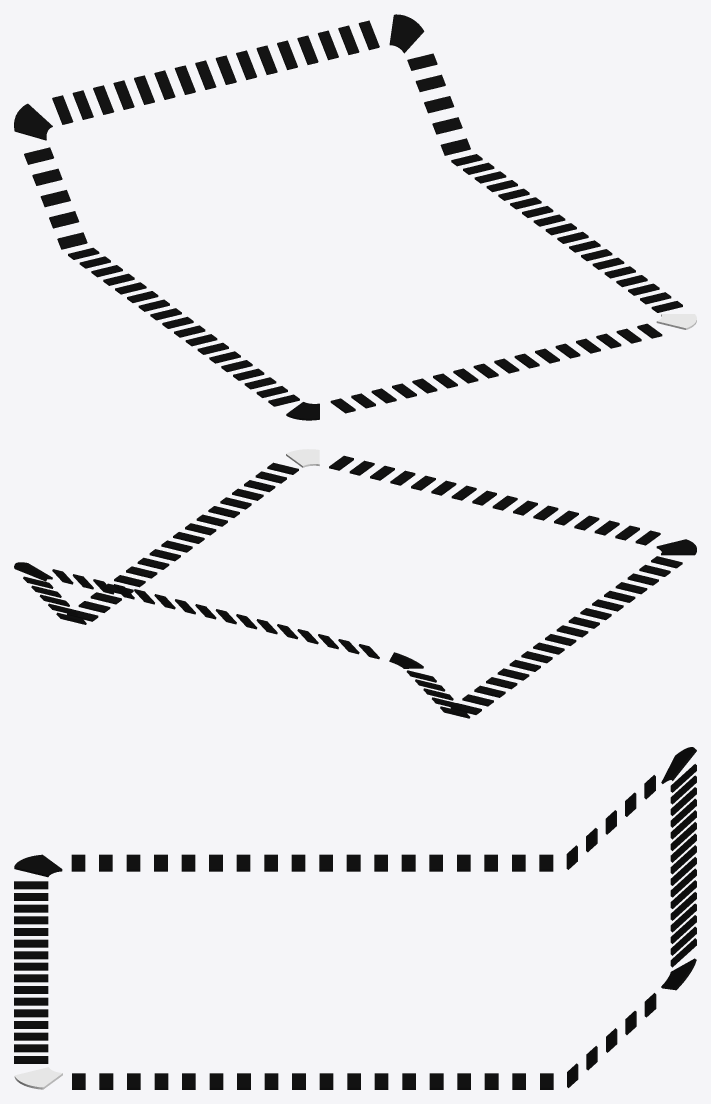
The model's file is T5_stage_border_XE_raised.glb.
3 views of the same model, one above another, from view 1: azimuth 30°, elevation 25°; view 2: azimuth 150°, elevation 25°; view 3: azimuth 270°, elevation 25° (orthographic). The views are drawn at different scales.
Parts seen in each view (by area): view 1: Stage_Raised; view 2: Stage_Raised; view 3: Stage_Raised.
Boxes of the visible parts, x1,y1,x2,y2 form: Stage_Raised: [14, 14, 696, 420]; Stage_Raised: [14, 449, 696, 718]; Stage_Raised: [14, 747, 696, 1089].
Bounding box in the file's own units: 0.8002 × 0.1915 × 0.9913.
1 material, 1 textured.
